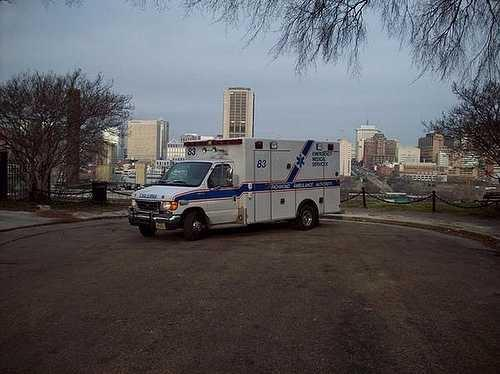car: (127, 136, 341, 240)
